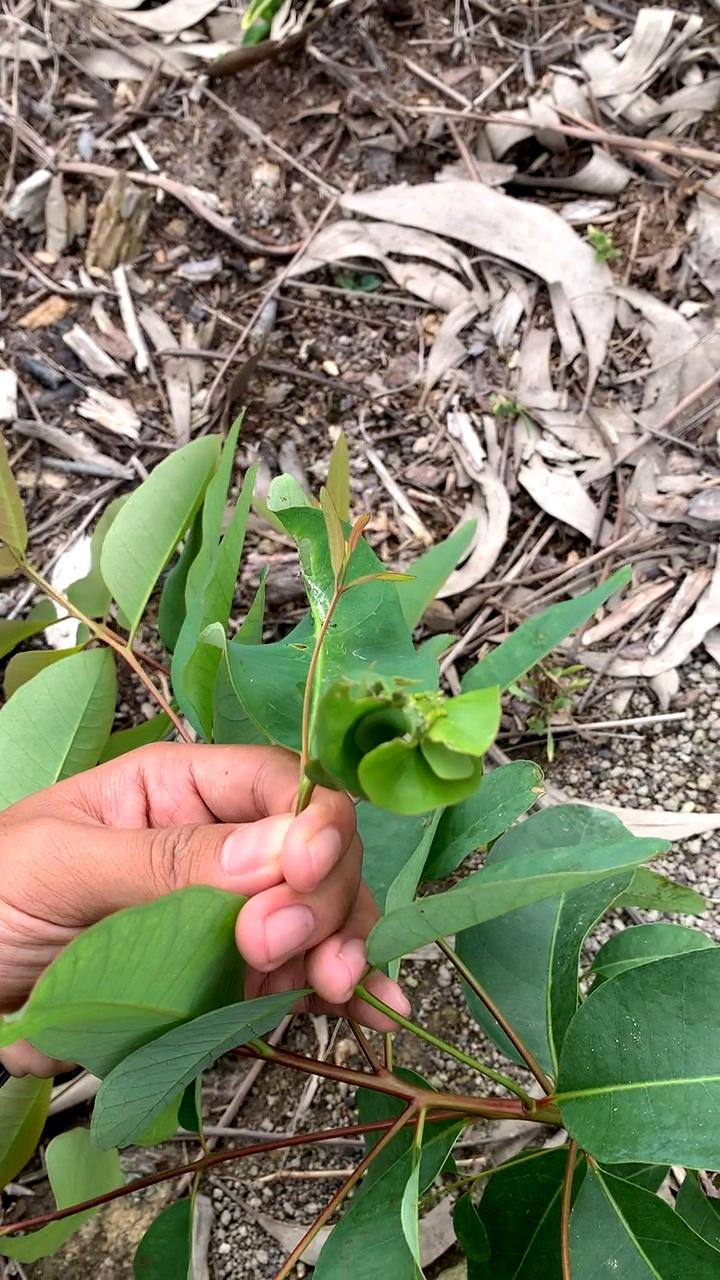Leaf Roller - Leaf: (299, 663, 523, 830)
